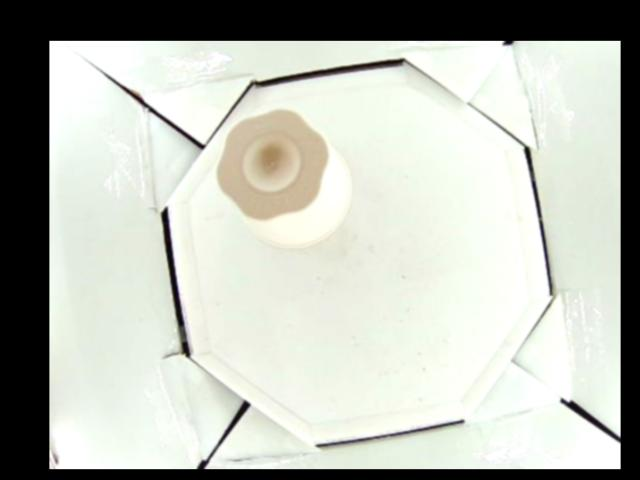Cup: (215, 109, 352, 246)
